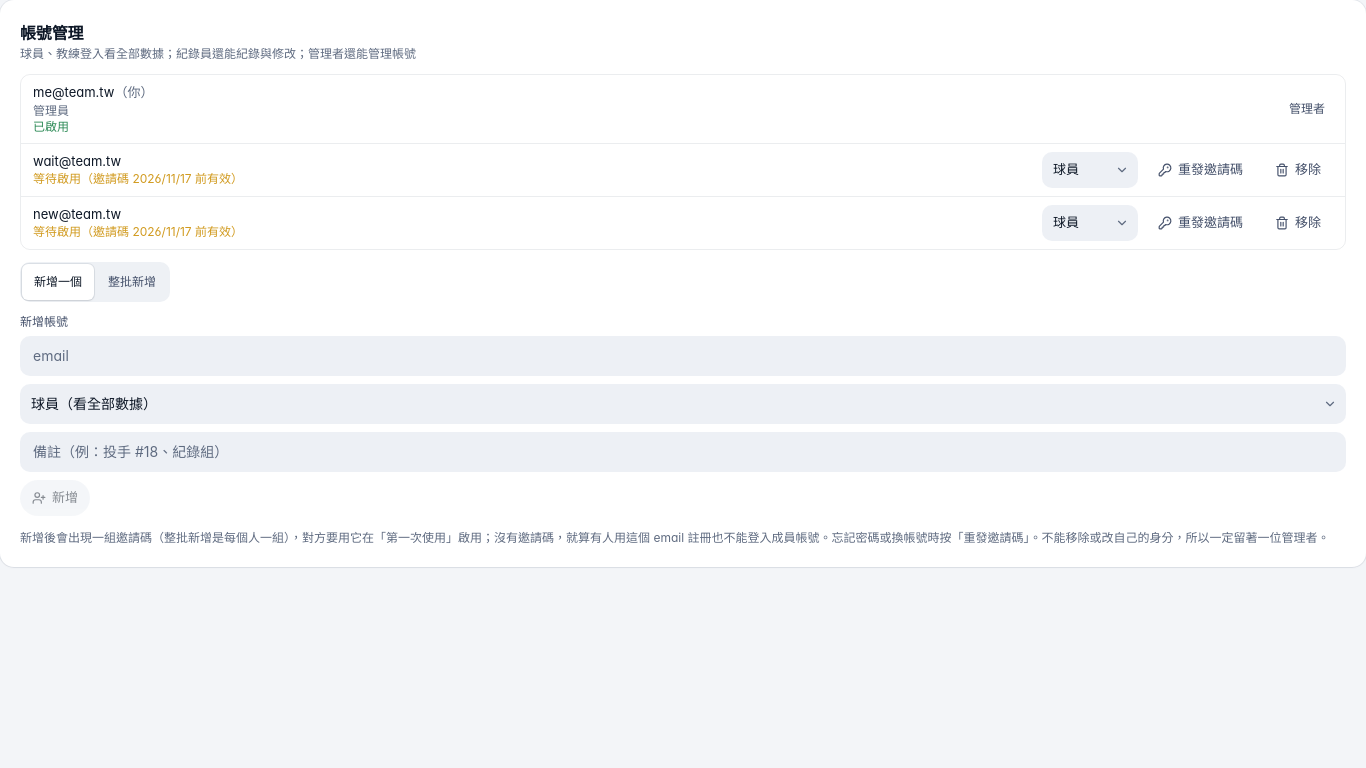
it: 帳號管理 with 邀請碼 and roles › shows each account's role; an admin changes someone else's, never their own
The image size is (1366, 768).
Select "紀錄員" in the dropdown named "wait@team.tw 的身分" at (1090, 170), box [1043,152,1137,186]
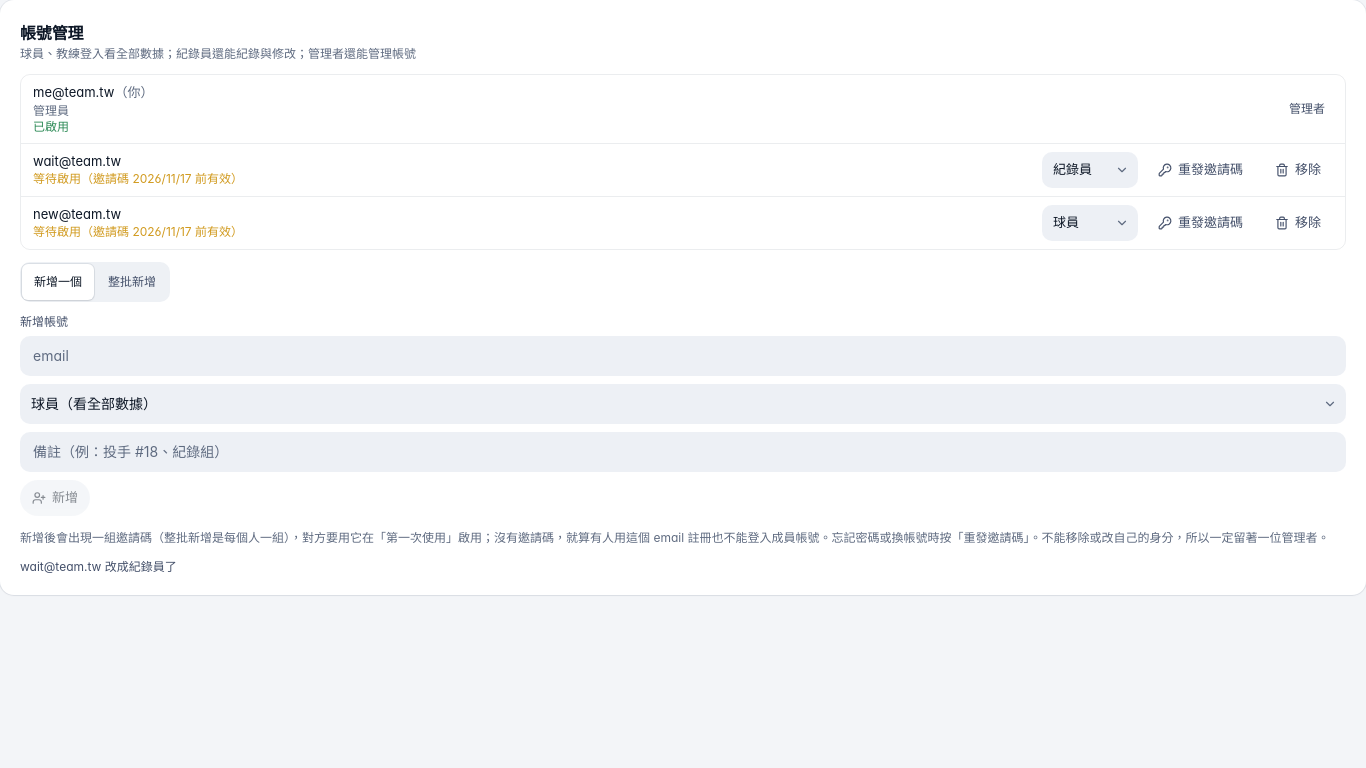
expect the text "wait@team.tw 改成紀錄員了" is shown: met, box [20,559,177,574]
